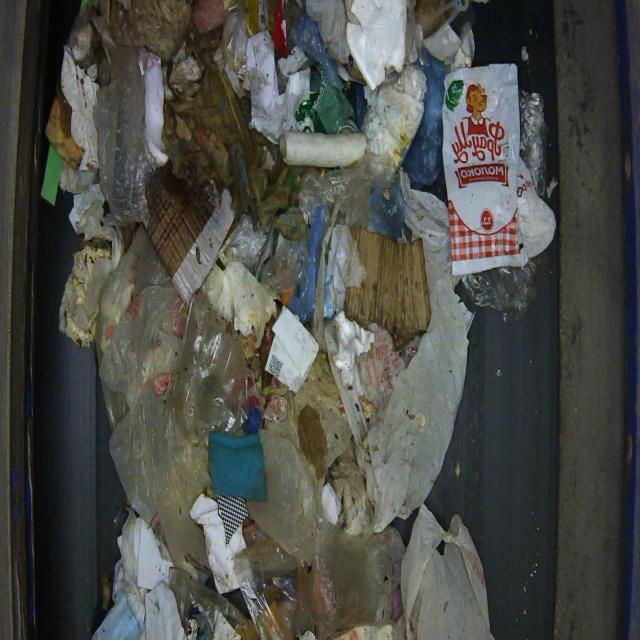other-trash: (44, 0, 555, 638)
